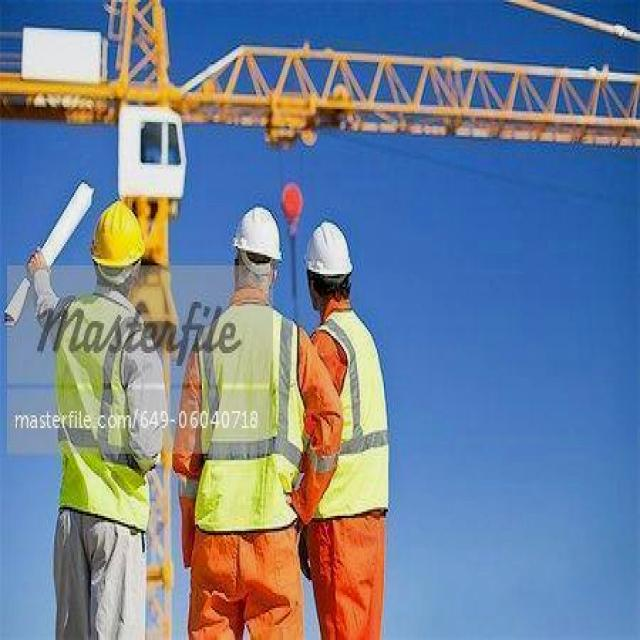hand_noglove: (23, 246, 54, 274)
head_helmet: (90, 202, 146, 266), (230, 203, 283, 261), (304, 218, 353, 280)
person: (203, 206, 306, 627), (61, 201, 148, 638), (307, 222, 392, 640)
vest: (196, 304, 298, 531), (57, 296, 152, 524), (313, 314, 388, 512)
